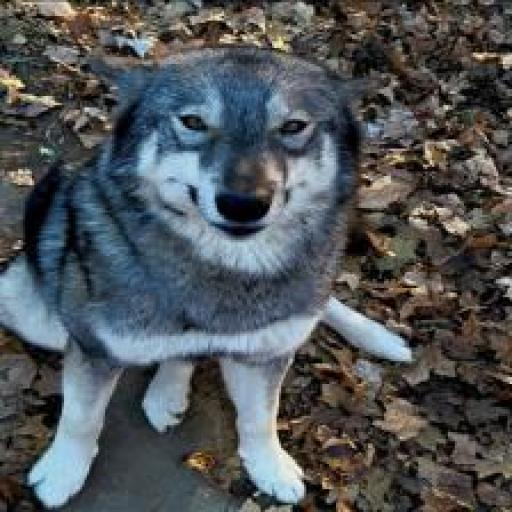wolf: (0, 27, 439, 512)
